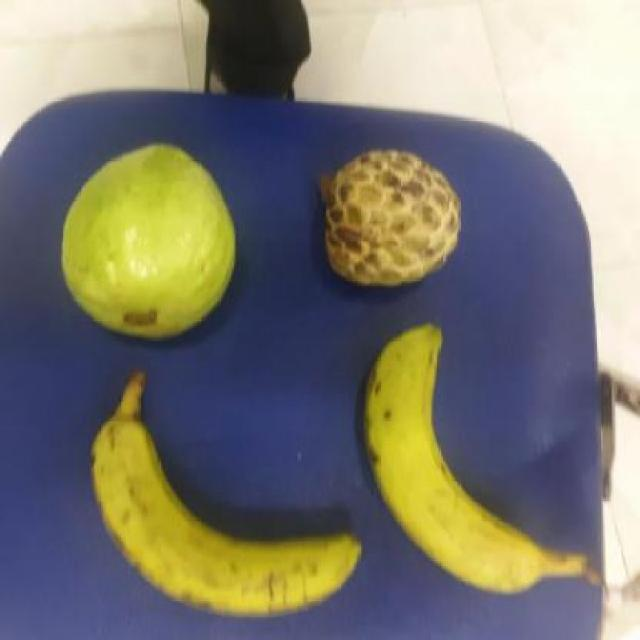banana: (78, 411, 356, 617), (358, 329, 540, 596)
guava: (54, 150, 234, 336), (313, 150, 456, 285)
sugar apple: (315, 150, 460, 288)
